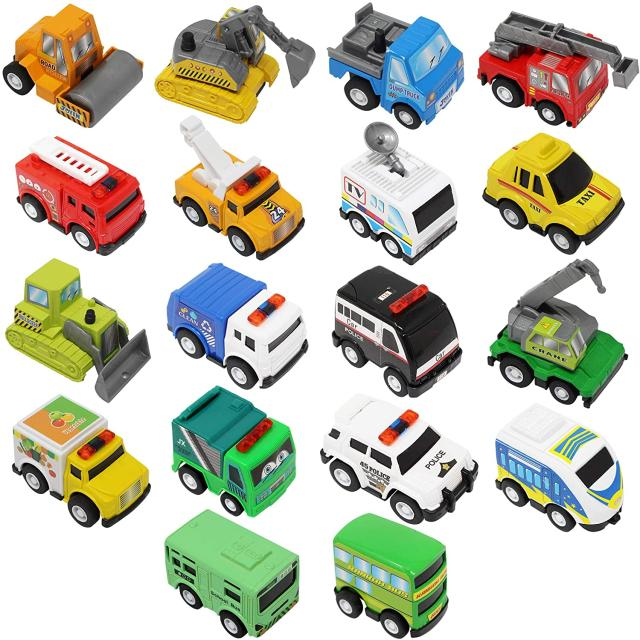Car: (320, 394, 478, 524), (167, 264, 308, 389), (334, 266, 462, 396), (172, 386, 295, 516), (16, 136, 146, 256)
